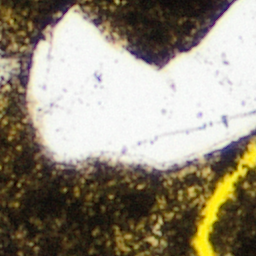cement_matrix: (0, 0, 255, 255), (210, 166, 255, 255)
cracks: (193, 139, 255, 255)
gravel_crushed_stones: (29, 0, 255, 166), (0, 53, 19, 88)
